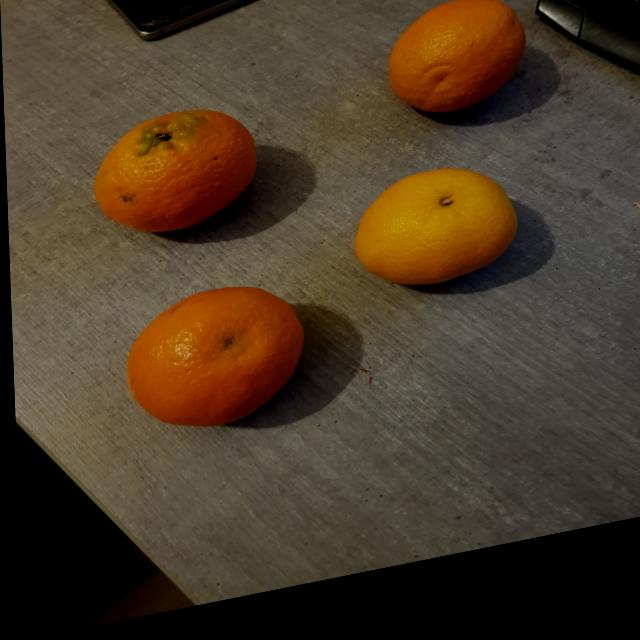Orange: (123, 296, 302, 436), (91, 118, 256, 239), (351, 186, 515, 303), (387, 17, 525, 131)
